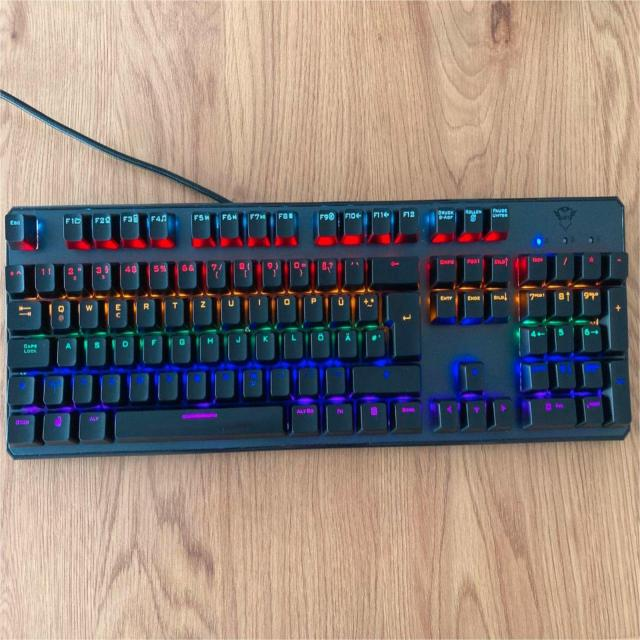0: (287, 255, 308, 285)
1: (33, 259, 54, 289)
2: (62, 260, 83, 290)
3: (90, 258, 111, 289)
4: (119, 259, 139, 288)
5: (148, 258, 167, 288)
6: (176, 256, 196, 287)
7: (204, 257, 225, 287)
8: (232, 256, 252, 286)
9: (260, 254, 280, 285)
a: (55, 333, 76, 364)
accent: (342, 254, 363, 283)
ae: (336, 325, 356, 356)
alt-left: (77, 407, 104, 438)
altgr-right: (289, 401, 317, 431)
b: (185, 368, 206, 398)
c: (127, 369, 148, 398)
caret: (3, 261, 23, 291)
comma: (269, 364, 288, 394)
d: (113, 332, 133, 363)
del: (369, 252, 417, 282)
e: (106, 295, 126, 325)
enter: (382, 288, 419, 356)
f: (142, 330, 161, 361)
g: (170, 330, 190, 361)
h: (198, 329, 218, 360)
hash: (363, 324, 384, 355)
i: (248, 292, 267, 320)
j: (226, 327, 246, 359)
k: (254, 327, 273, 358)
keyboard: (4, 194, 633, 459)
l: (282, 327, 302, 358)
less: (41, 371, 62, 402)
m: (241, 365, 262, 395)
minus: (324, 363, 344, 392)
n: (213, 367, 233, 396)
o: (275, 291, 295, 320)
oe: (309, 326, 329, 356)
p: (302, 290, 321, 320)
plus: (356, 288, 377, 319)
point: (297, 364, 317, 393)
q: (49, 295, 70, 327)
r: (135, 295, 155, 325)
s: (84, 333, 105, 364)
shift-left: (6, 373, 33, 403)
shift-lock: (6, 334, 49, 367)
shift-right: (350, 362, 418, 392)
space: (112, 402, 282, 437)
ss: (315, 254, 335, 284)
strg-left: (6, 410, 33, 441)
strg-right: (392, 398, 421, 428)
t: (163, 294, 182, 324)
tab: (5, 296, 40, 329)
u: (219, 292, 239, 322)
ue: (329, 290, 349, 320)
v: (156, 368, 176, 398)
w: (77, 295, 97, 326)
x: (99, 370, 119, 401)
y: (71, 370, 91, 401)
z: (191, 293, 211, 323)
